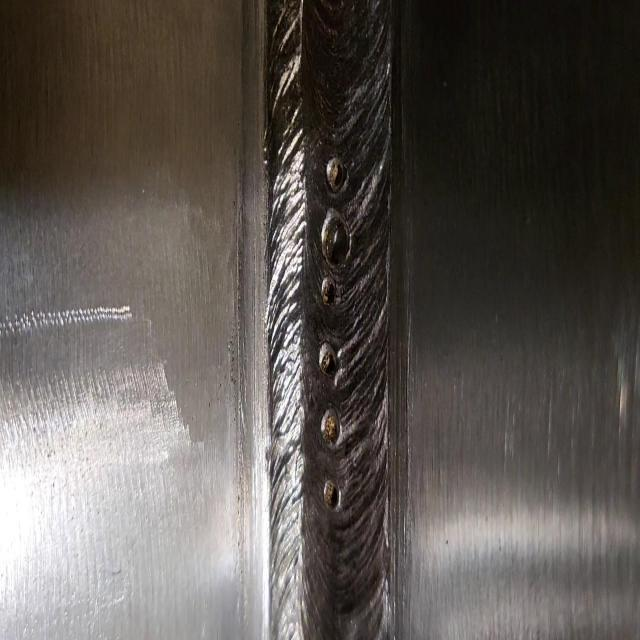Welding Line: (269, 2, 391, 640)
porosity: (318, 155, 351, 511)
